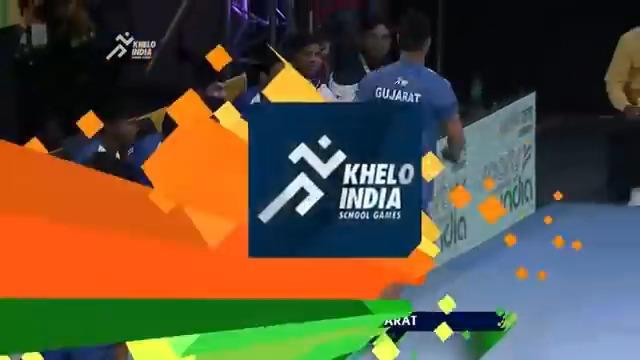Player: (2, 1, 468, 358), (352, 12, 466, 214), (326, 13, 397, 101)
referee: (4, 0, 233, 358), (2, 0, 231, 154), (0, 0, 101, 151)
